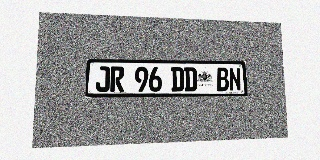6: (149, 67, 162, 92)
9: (135, 67, 148, 92)
B: (216, 67, 229, 91)
D: (171, 67, 184, 91), (184, 67, 197, 91)
J: (95, 66, 110, 92)
N: (229, 68, 241, 91)
R: (110, 66, 124, 92)
